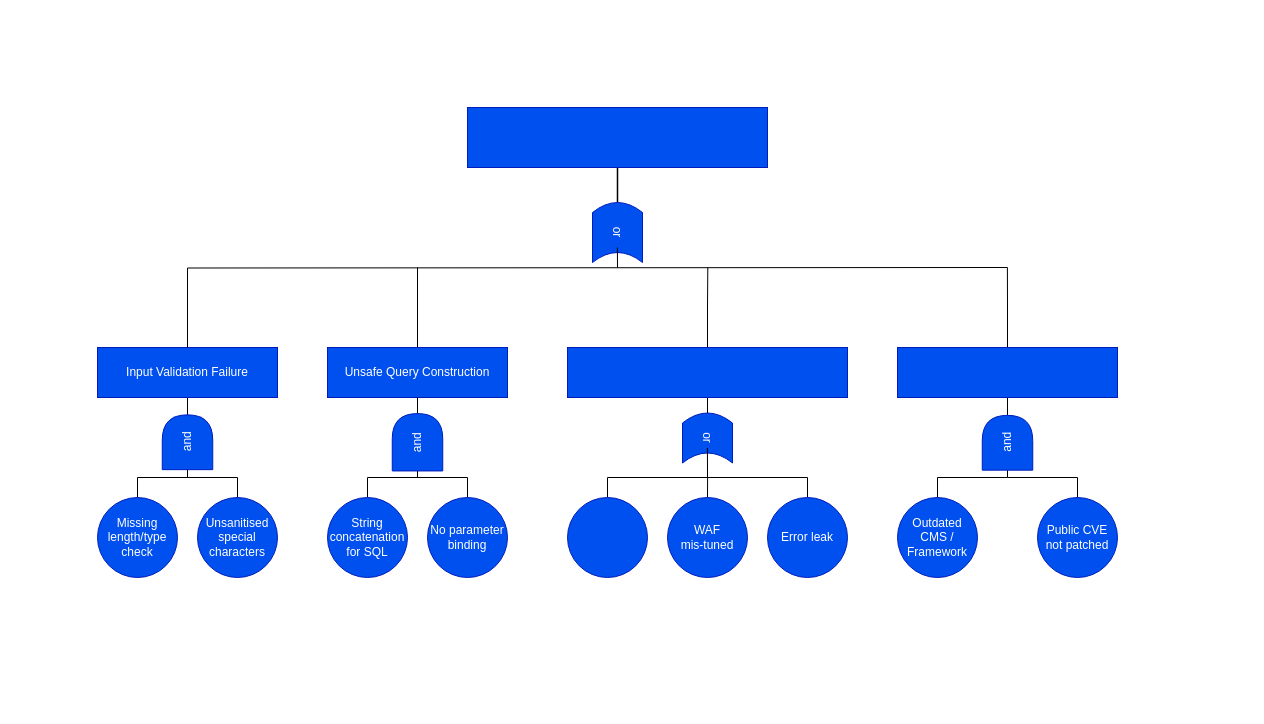
This 1264x724 diagram has some shape labels left out. Here are the shapes that lost their labels. From the top down, the centre of each, then its label:
the point at 617,137: SQL‑Injection leads to unauthorised extraction of customer PII
the point at 707,372: Protection Layer Absent or Misconfigured
the point at 1007,372: Known Vulnerability Not Patched
the point at 607,537: WAF not deployed
